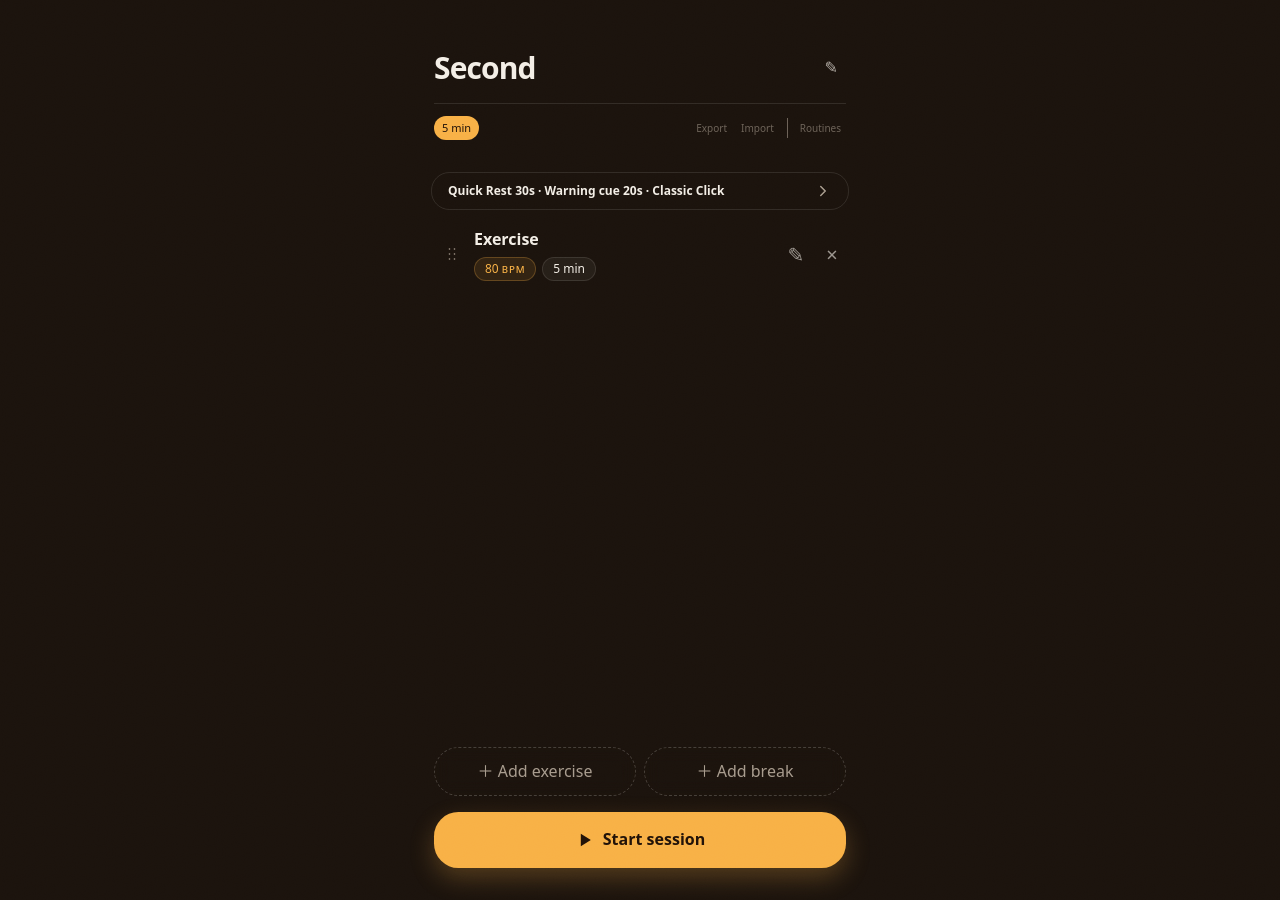
Test: RoutineEditor › adopts a committed selection even if its summary refresh fails
Click the button "Routines": (816, 128) x1=787 y1=118 x2=846 y2=138
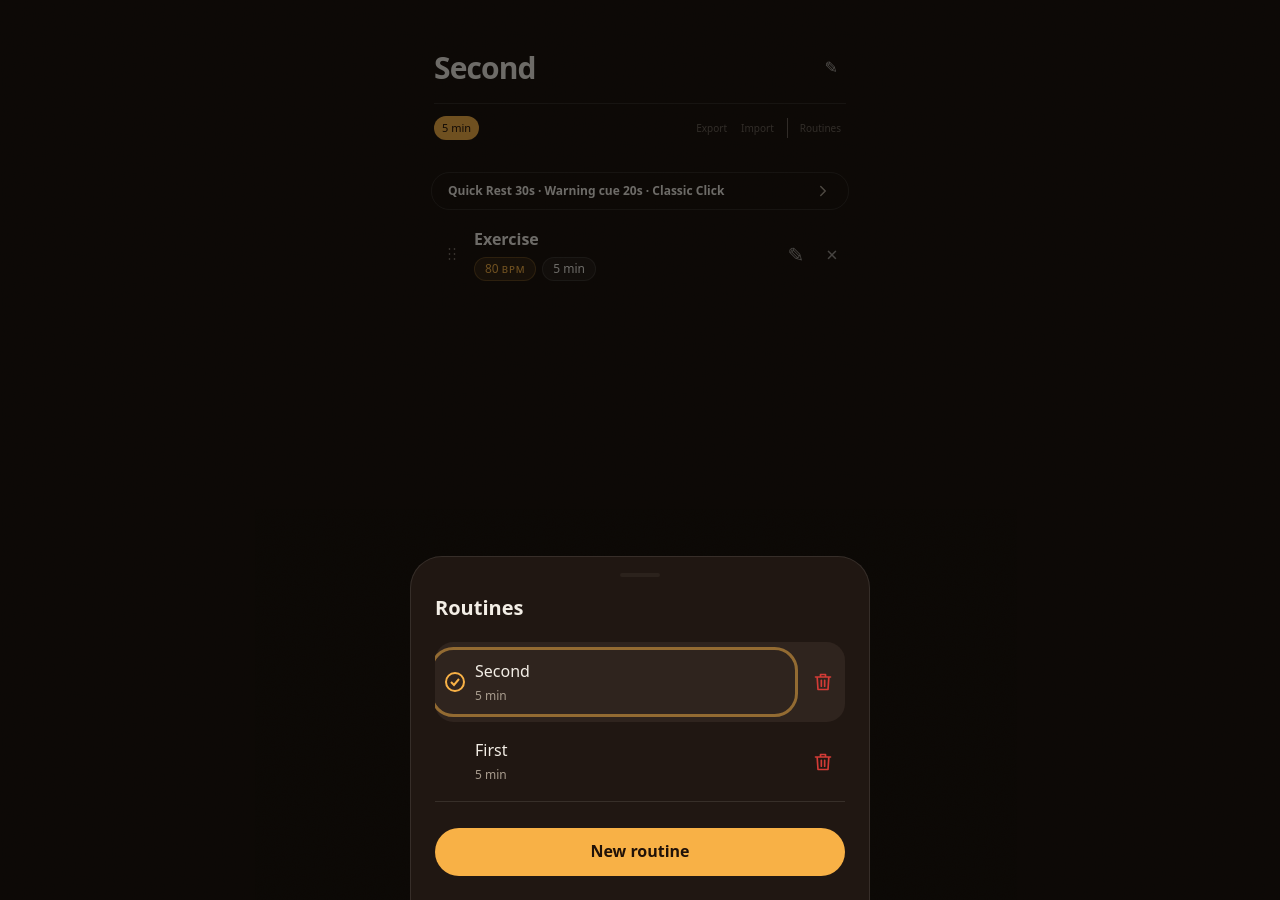
Click the button with aria-label "Open routine First": (491, 750) x1=435 y1=731 x2=793 y2=792
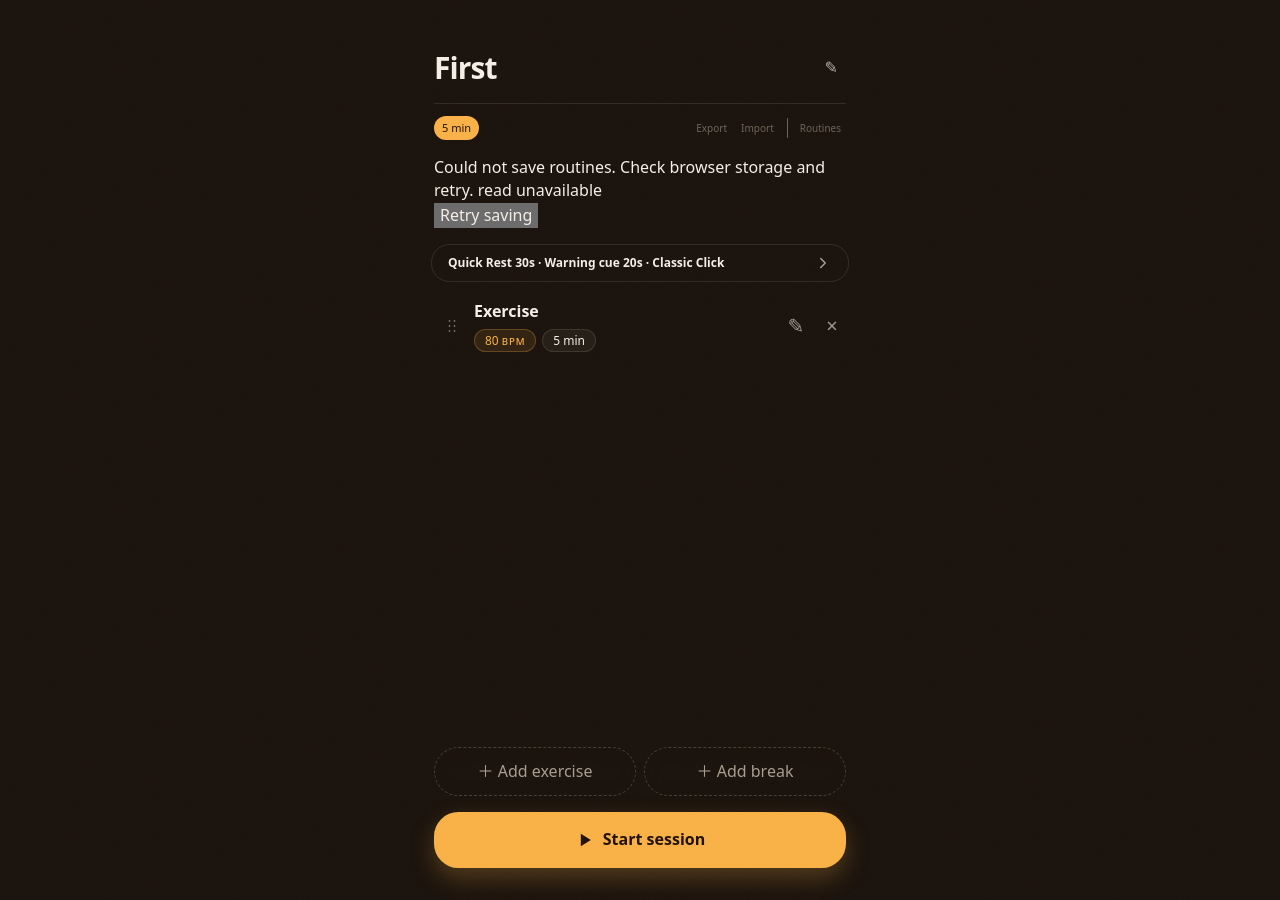
Expected: the heading "First" is shown, x1=434 y1=51 x2=497 y2=84
Expected: the button "Routines" is collapsed, x1=787 y1=118 x2=846 y2=138
Expected: the message shows "read unavailable", x1=434 y1=156 x2=825 y2=201
